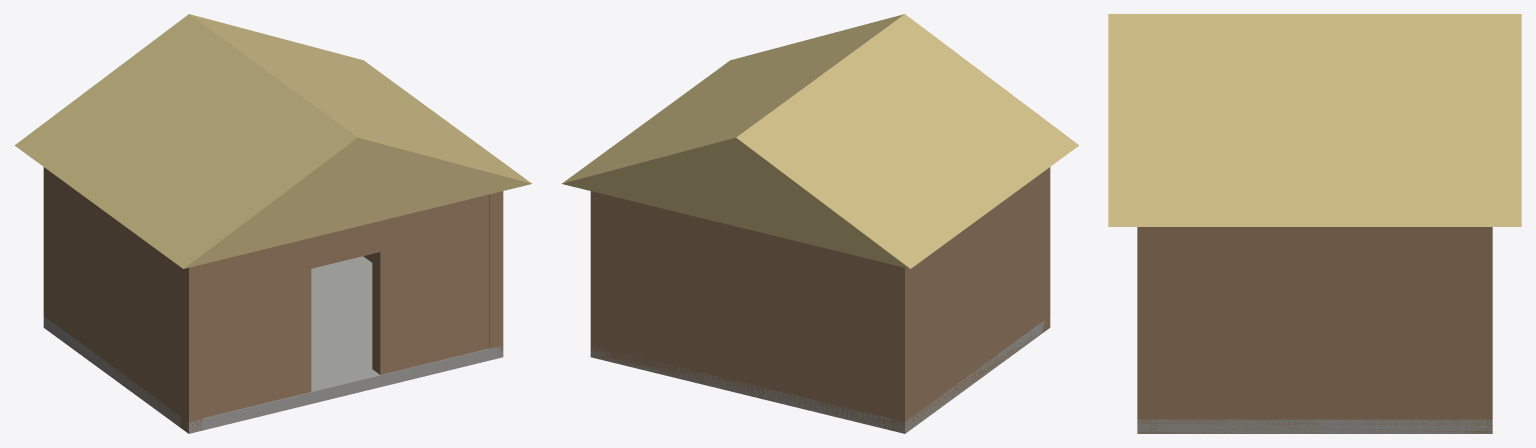
Rendered from house_thatch.glb.
3 renders of one model, left to right at view 1: azimuth 30°, elevation 25°; view 2: azimuth 150°, elevation 25°; view 3: azimuth 270°, elevation 25°, orthographic. The views are drawn at different scales.
Parts seen in each view (by area): view 1: roof_removable, part_2, part_4, part_5, part_0, part_3, part_6, part_1; view 2: roof_removable, part_1, part_2, part_0, part_4, part_3; view 3: roof_removable, part_3, part_0, part_1, part_5.
Part boxes in pixels (<box>): roof_removable: <box>15,14,531,268</box>; part_2: <box>43,168,202,433</box>; part_4: <box>180,238,311,433</box>; part_5: <box>372,194,489,374</box>; part_0: <box>43,256,503,433</box>; part_3: <box>363,191,503,355</box>; part_6: <box>311,221,380,268</box>; part_1: <box>43,167,51,327</box>; roof_removable: <box>562,14,1078,268</box>; part_1: <box>590,191,912,433</box>; part_2: <box>891,167,1050,433</box>; part_0: <box>590,316,1050,433</box>; part_4: <box>1042,167,1049,332</box>; part_3: <box>590,192,604,352</box>; roof_removable: <box>1108,14,1521,226</box>; part_3: <box>1137,227,1492,433</box>; part_0: <box>1137,419,1492,433</box>; part_1: <box>1473,227,1492,433</box>; part_5: <box>1138,227,1157,433</box>.
Size of the model in its own units: 5.55 by 4.05 by 4.65.
